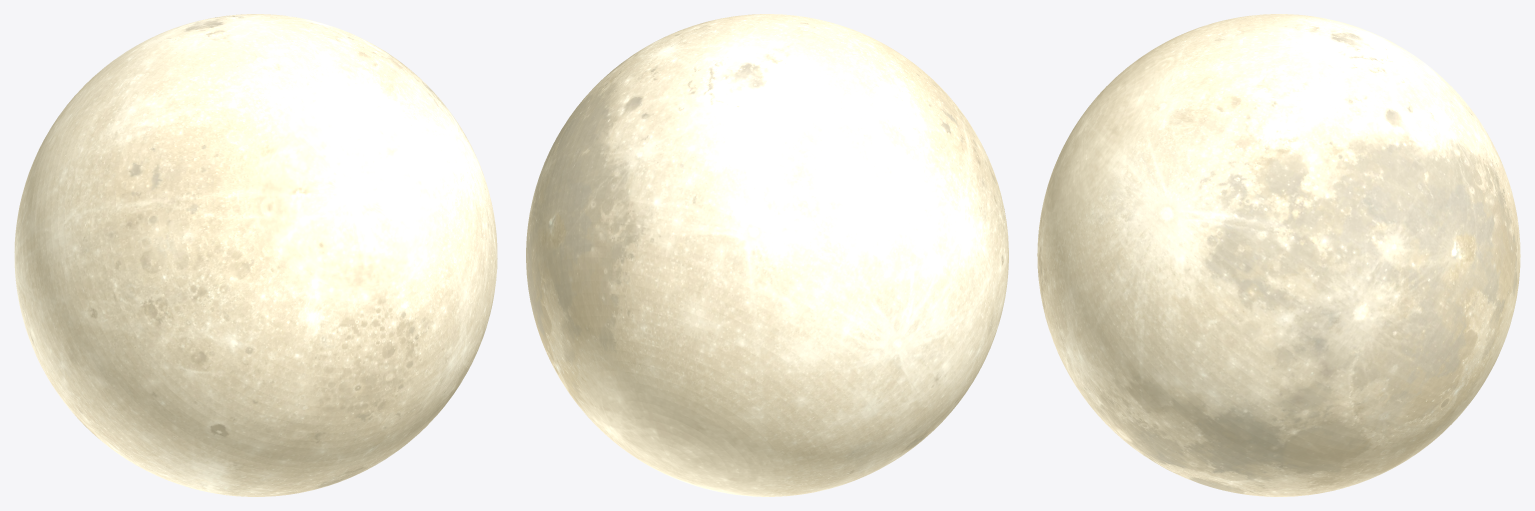
Rendered from moon.glb.
3 views of the same model, side by side, from view 1: azimuth 30°, elevation 25°; view 2: azimuth 150°, elevation 25°; view 3: azimuth 270°, elevation 25° (orthographic).
Parts seen in each view (by area): view 1: 球; view 2: 球; view 3: 球.
Boxes of the visible parts, left/top/right/bottom form: 球: left=14, top=14, right=497, bottom=496; 球: left=526, top=14, right=1008, bottom=496; 球: left=1037, top=14, right=1520, bottom=496.
Size of the model in its own units: 2 by 2 by 2.
Materials: 1 (1 with a texture image).
